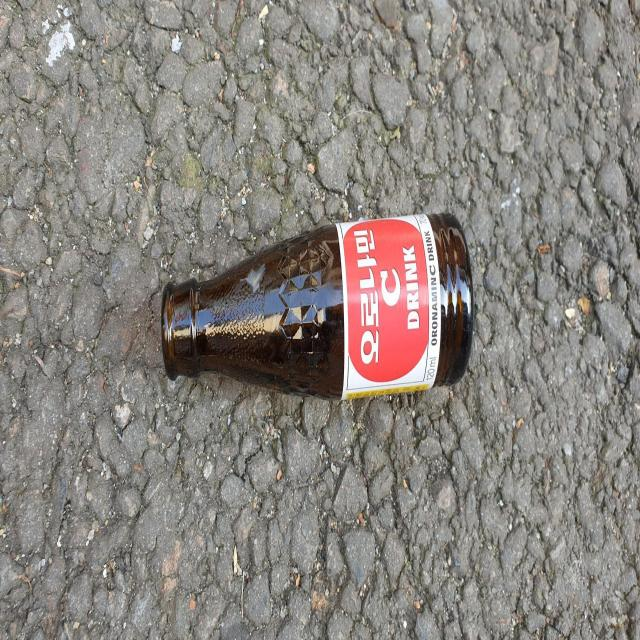glass: (161, 213, 474, 399)
